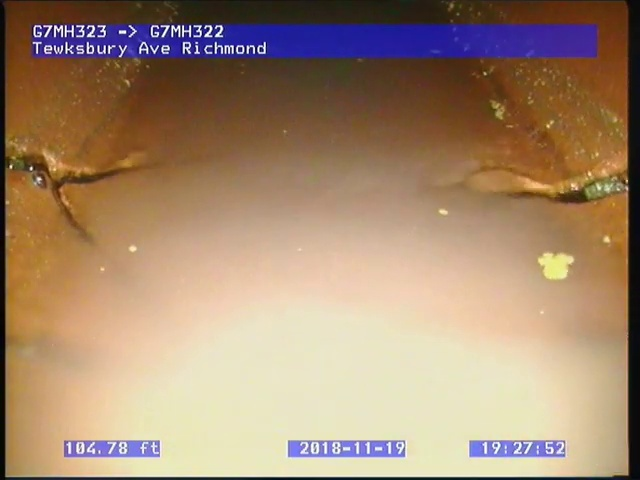crack: (6, 145, 149, 246), (507, 168, 627, 206)
